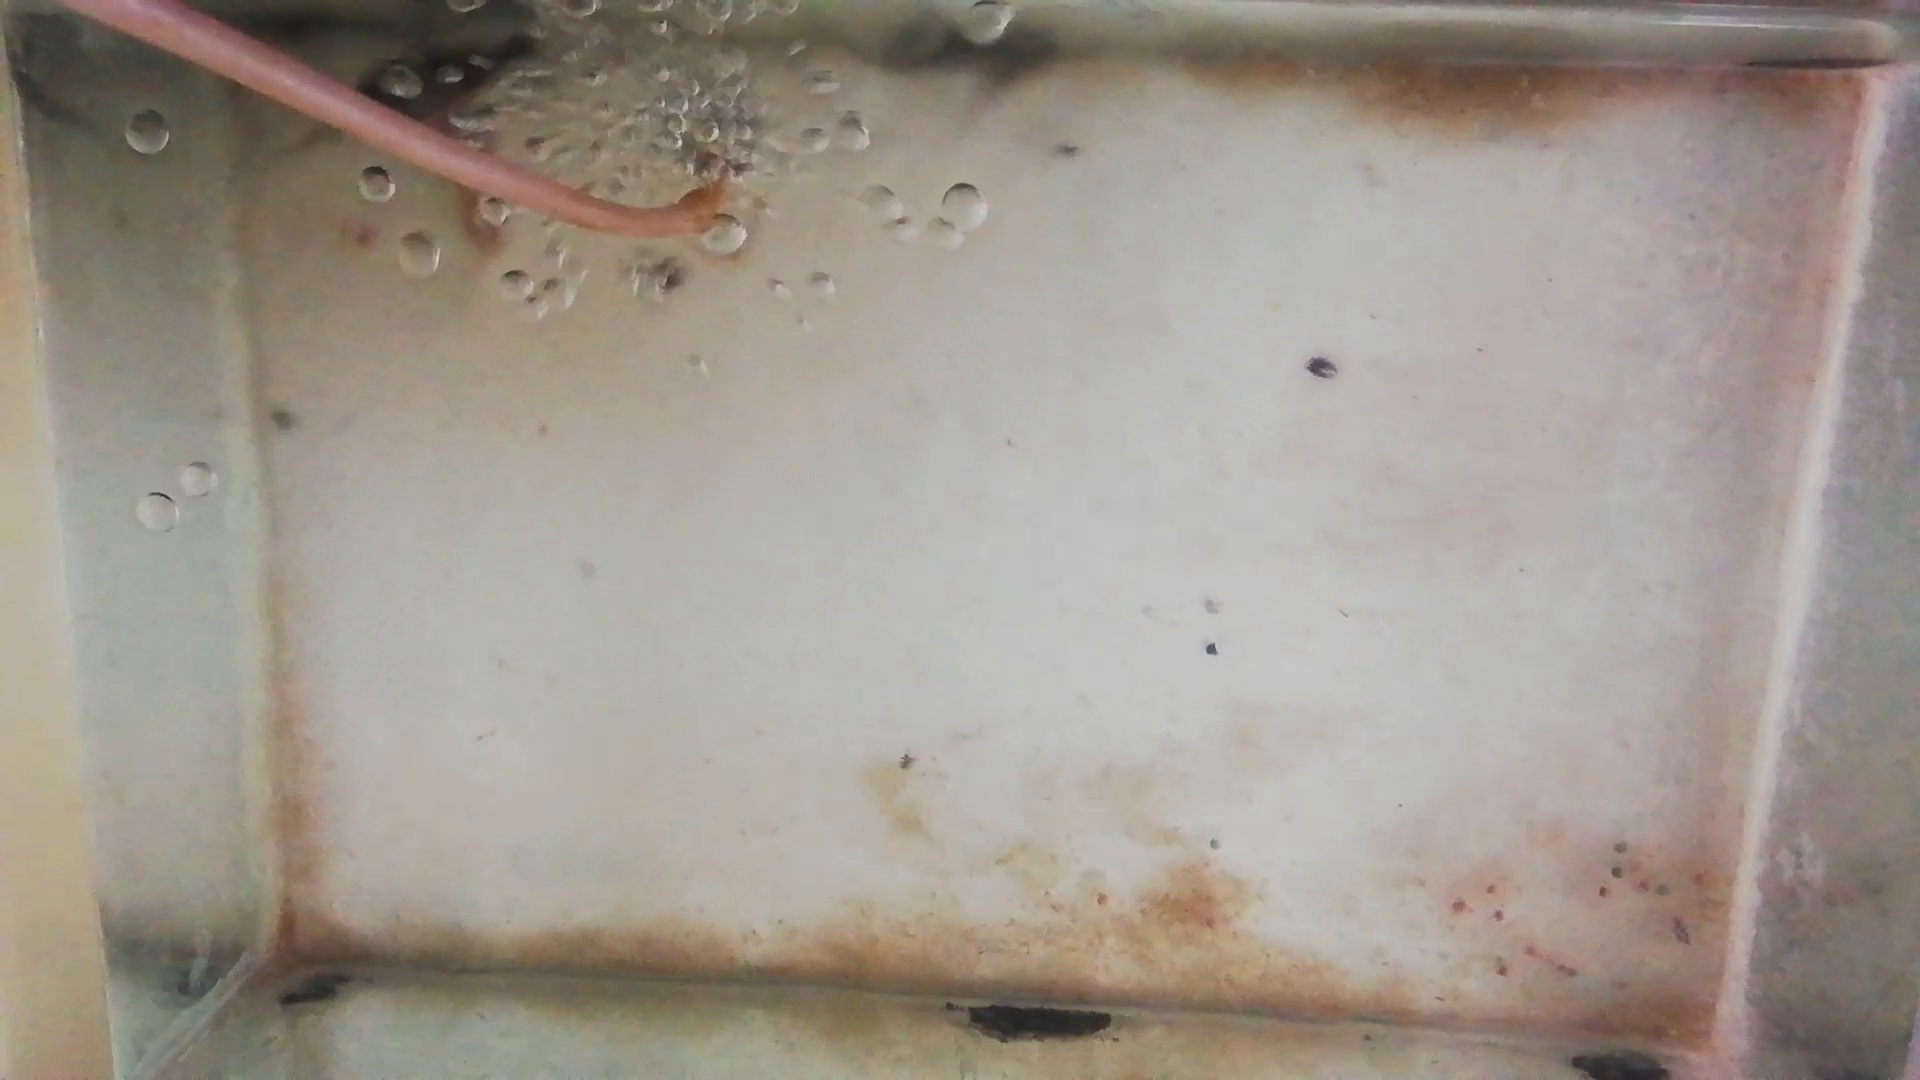fish: (344, 32, 556, 99), (462, 128, 513, 262)
